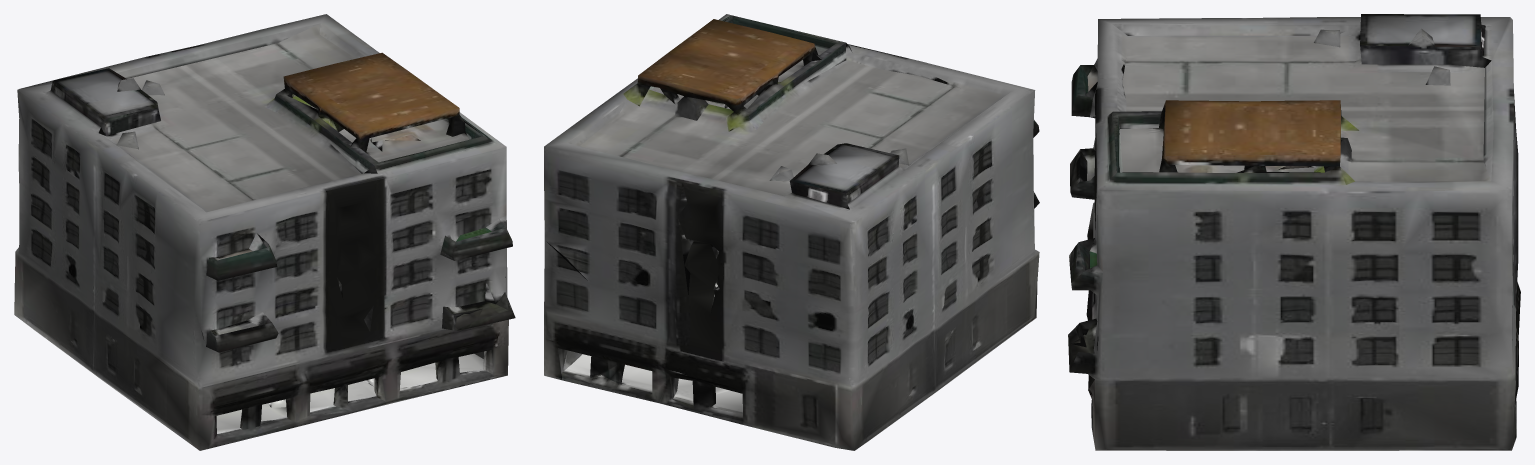
The model's file is gen_low2_modern_mid.glb.
The picture shows the model from 3 angles, left to right: view 1: azimuth 30°, elevation 25°; view 2: azimuth 150°, elevation 25°; view 3: azimuth 270°, elevation 25°; orthographic projection. The views are drawn at different scales.
Parts seen in each view (by area): view 1: gen_low2_modern_mid; view 2: gen_low2_modern_mid; view 3: gen_low2_modern_mid.
Boxes of the visible parts, x1,y1,x2,y2 form: gen_low2_modern_mid: (14, 14, 515, 450); gen_low2_modern_mid: (544, 14, 1039, 450); gen_low2_modern_mid: (1068, 14, 1520, 450).
Size of the model in its own units: 30 by 23 by 32.83.
1 material, 1 textured.
